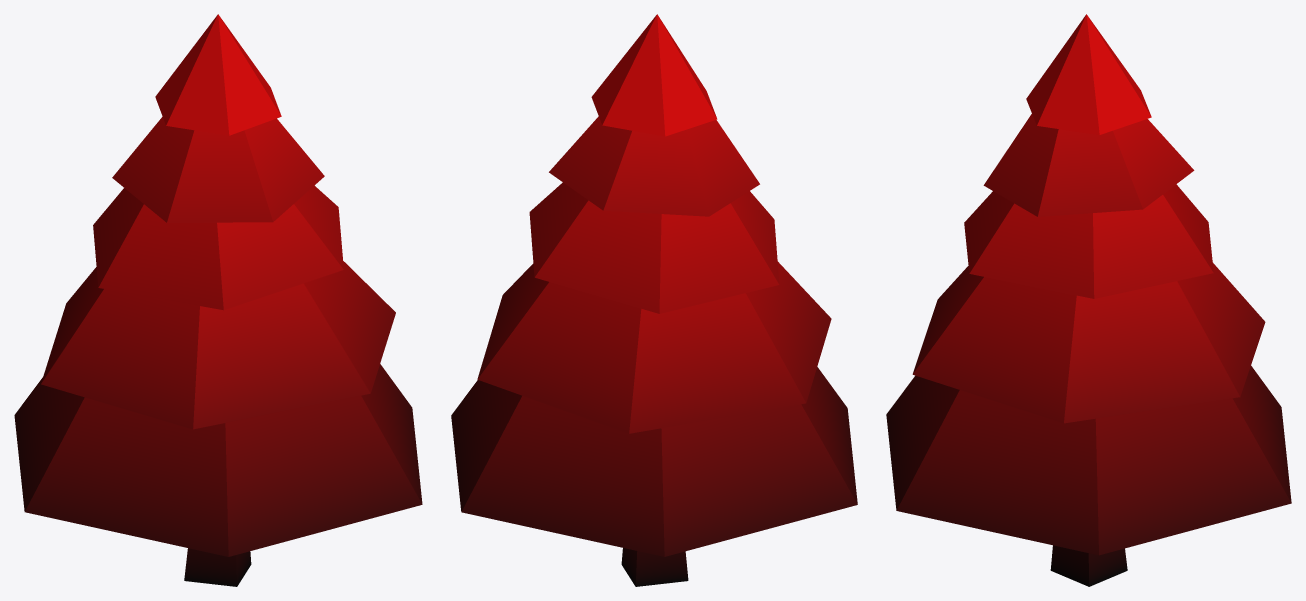
The model's file is SM_sapin_vertexcolor.FBX.
3 views of the same model, side by side, from view 1: azimuth 30°, elevation 25°; view 2: azimuth 150°, elevation 25°; view 3: azimuth 270°, elevation 25° (orthographic).
Parts seen in each view (by area): view 1: tronc010; view 2: tronc010; view 3: tronc010.
Part boxes in pixels (x1,y1,x2,y2): tronc010: (14, 14, 422, 586); tronc010: (451, 14, 857, 586); tronc010: (886, 14, 1291, 586).
Size of the model in its own units: 247 by 333 by 220.
